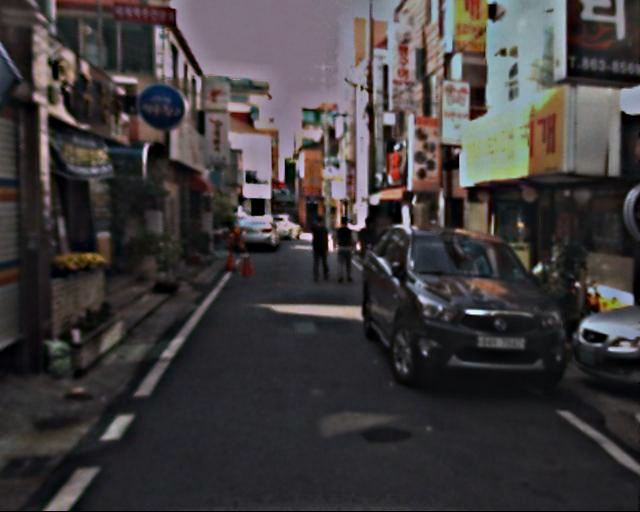person: (353, 215, 382, 285), (306, 216, 334, 284), (330, 218, 357, 285)
